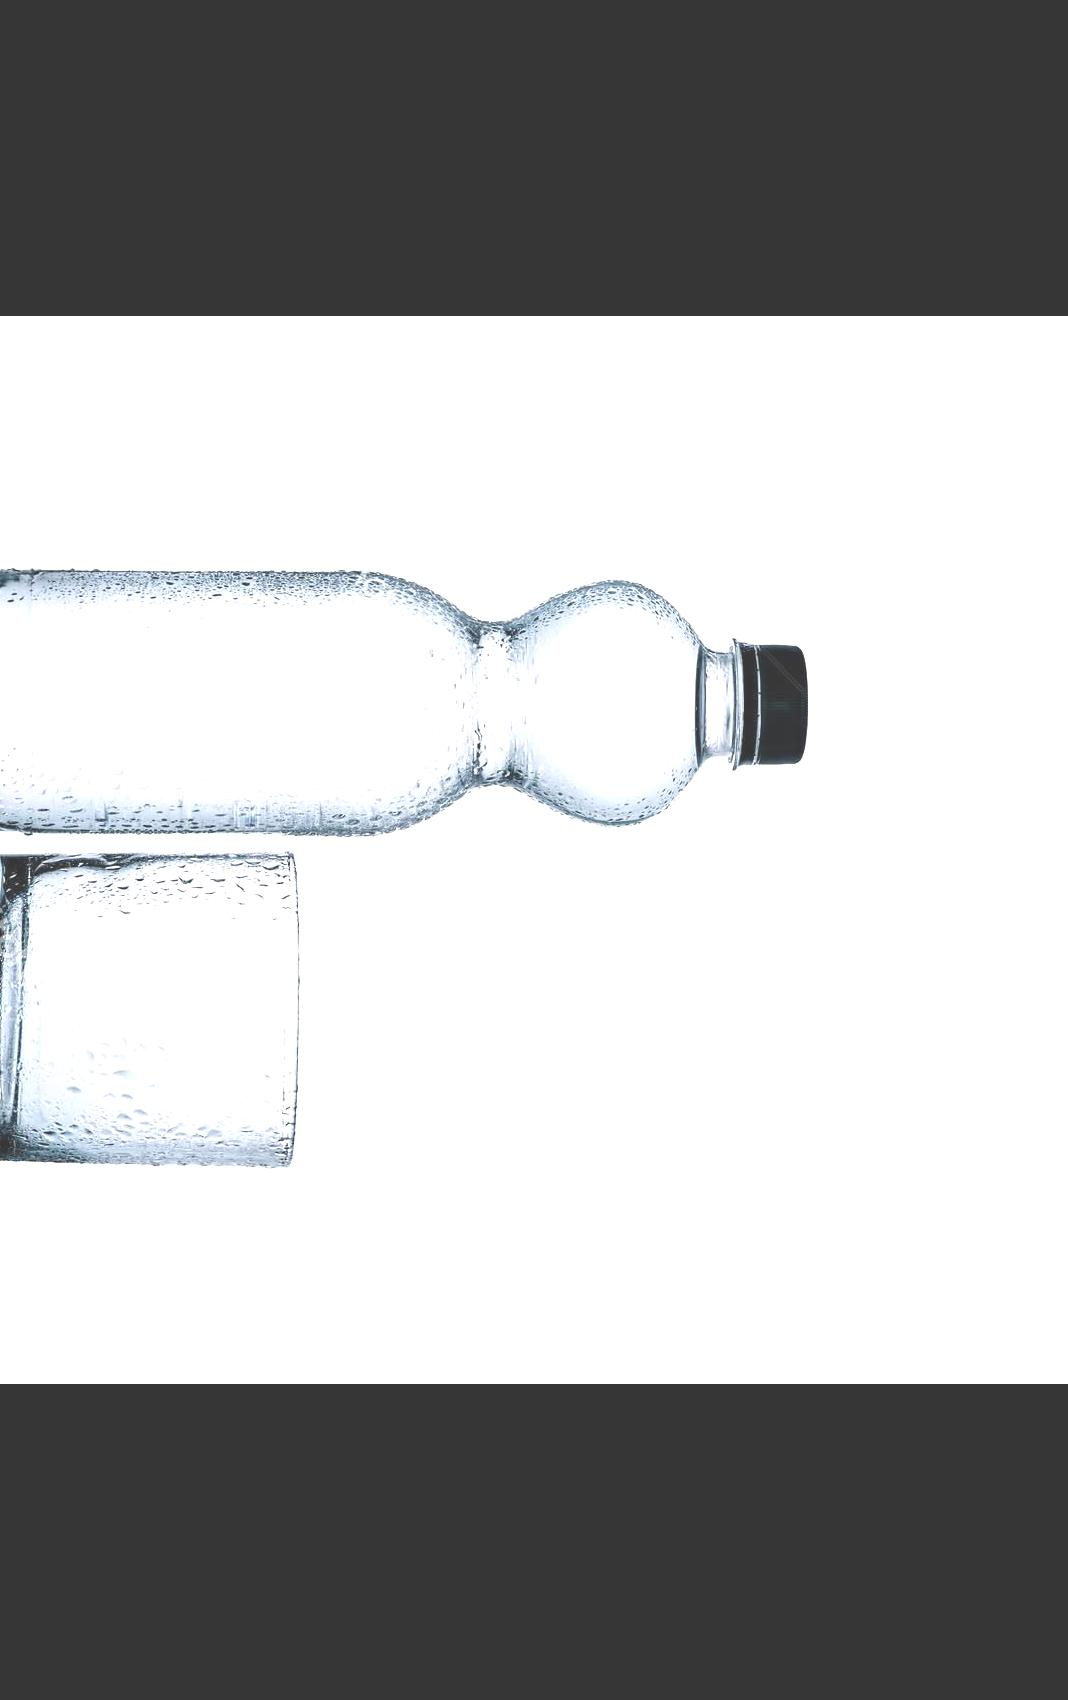bottle: (0, 538, 876, 859)
